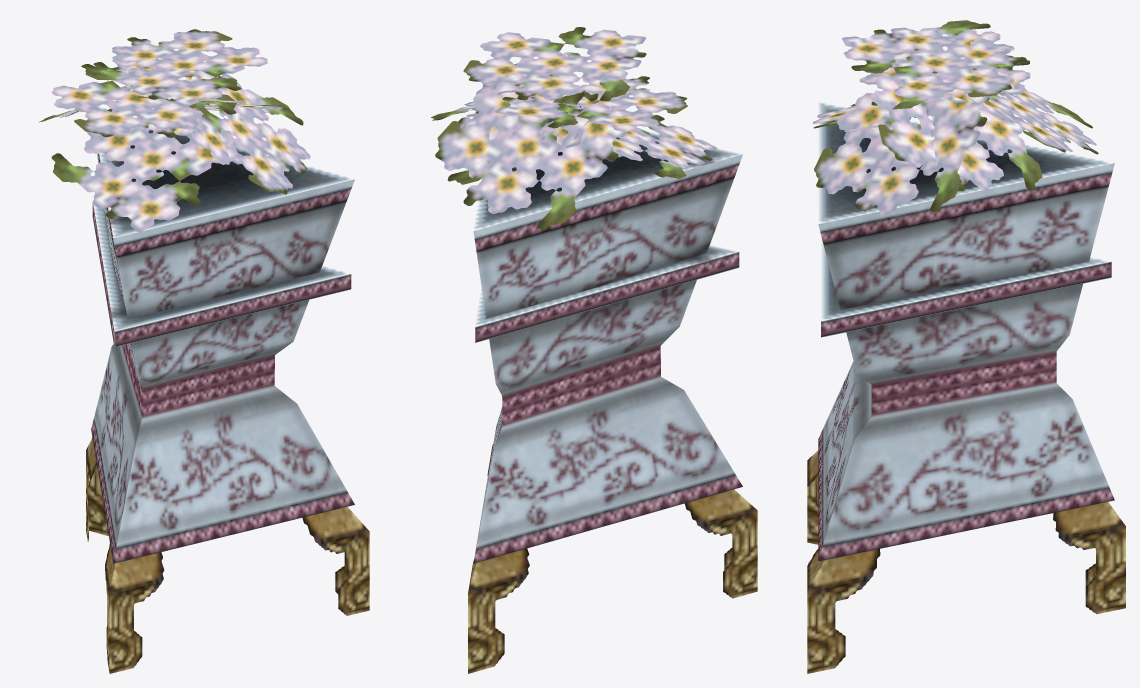
Rendered from plant.glb.
3 views of the same model, side by side, from view 1: azimuth 30°, elevation 25°; view 2: azimuth 150°, elevation 25°; view 3: azimuth 270°, elevation 25° (orthographic). The views are drawn at different scales.
Visible parts, largest first — view 1: Box03; view 2: Box03; view 3: Box03.
Boxes of the visible parts, bbox=[...] form: Box03: bbox=[39, 29, 369, 673]; Box03: bbox=[431, 27, 757, 673]; Box03: bbox=[807, 20, 1125, 673].
Bounding box in the file's own units: 0.0129 × 0.0236 × 0.0131.
1 material, 1 textured.
